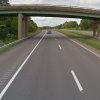Bridge: (4, 1, 99, 39)
